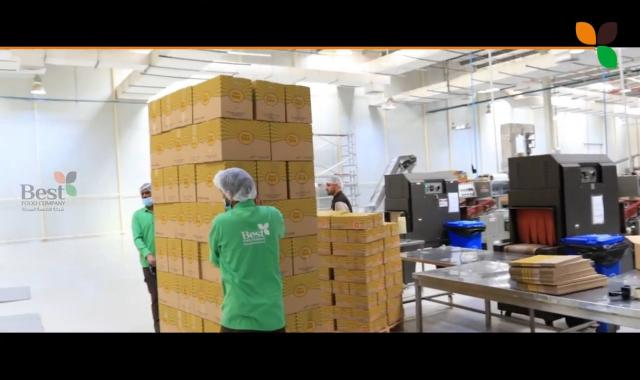hairnet: (216, 168, 256, 203), (324, 174, 342, 186), (139, 180, 151, 196)
